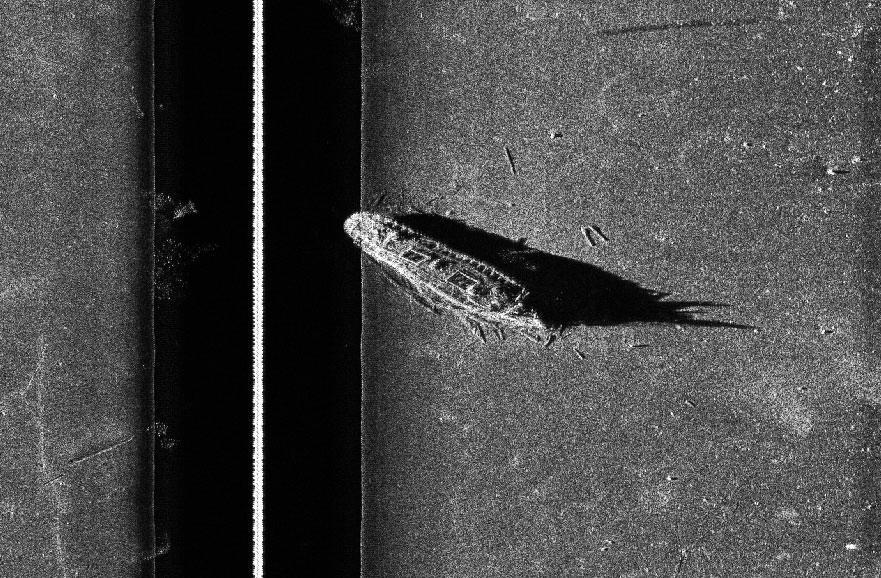ship: (341, 209, 548, 333)
